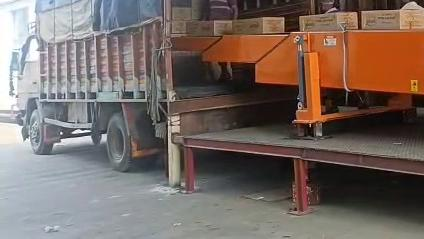box: (361, 9, 423, 29), (299, 12, 358, 31), (233, 17, 284, 34), (186, 20, 232, 36)
